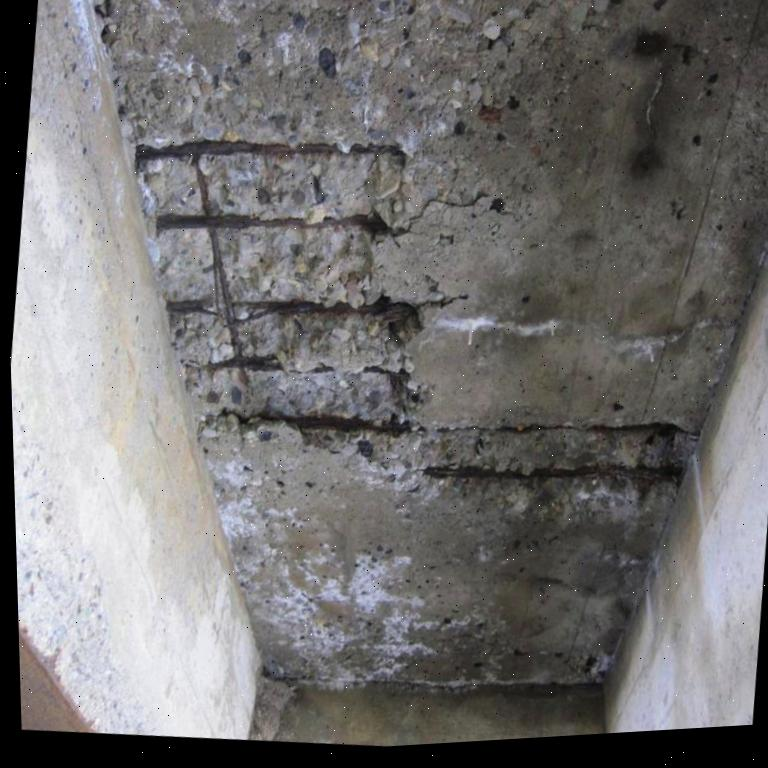exposed_rebar: (423, 465, 682, 483), (156, 214, 387, 234), (136, 140, 342, 162), (209, 228, 240, 355), (233, 296, 417, 313), (259, 417, 410, 432), (215, 356, 281, 370), (194, 159, 210, 216), (167, 301, 217, 313), (350, 146, 399, 155)
spalling: (138, 141, 687, 529)
